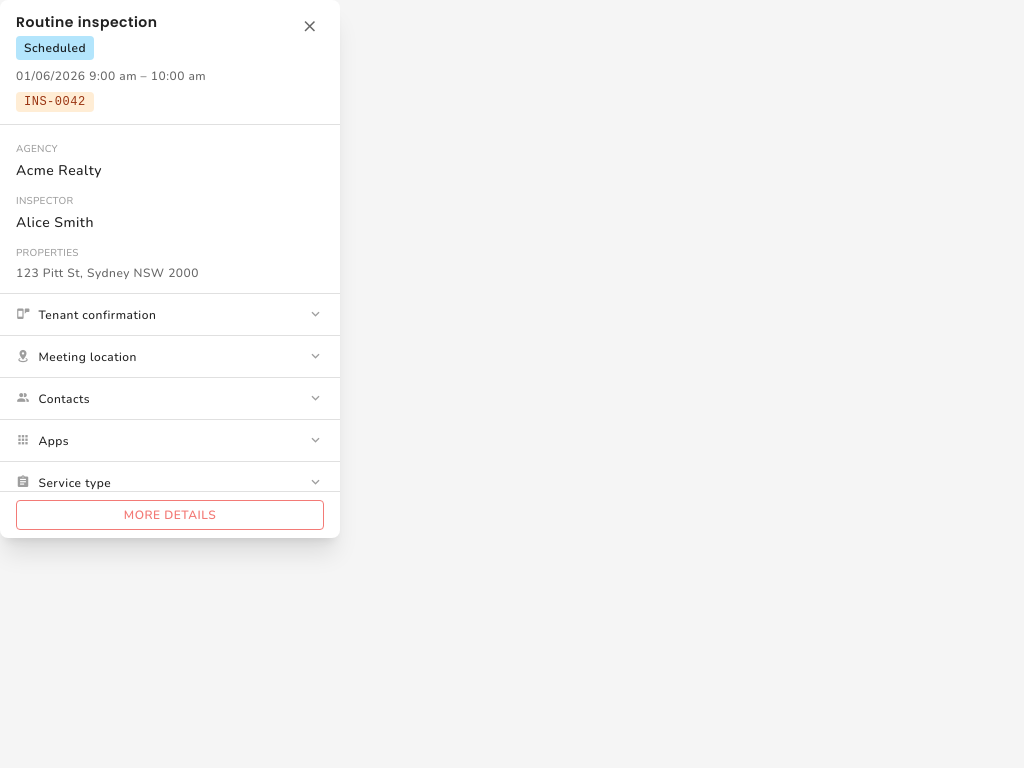
Test: AppointmentMapDetailPanel (content) › omits optional app fields when absent
The image size is (1024, 768).
Click the button with test id "map-detail-section-apps".
click(54, 440)  # box [0,420,340,461]
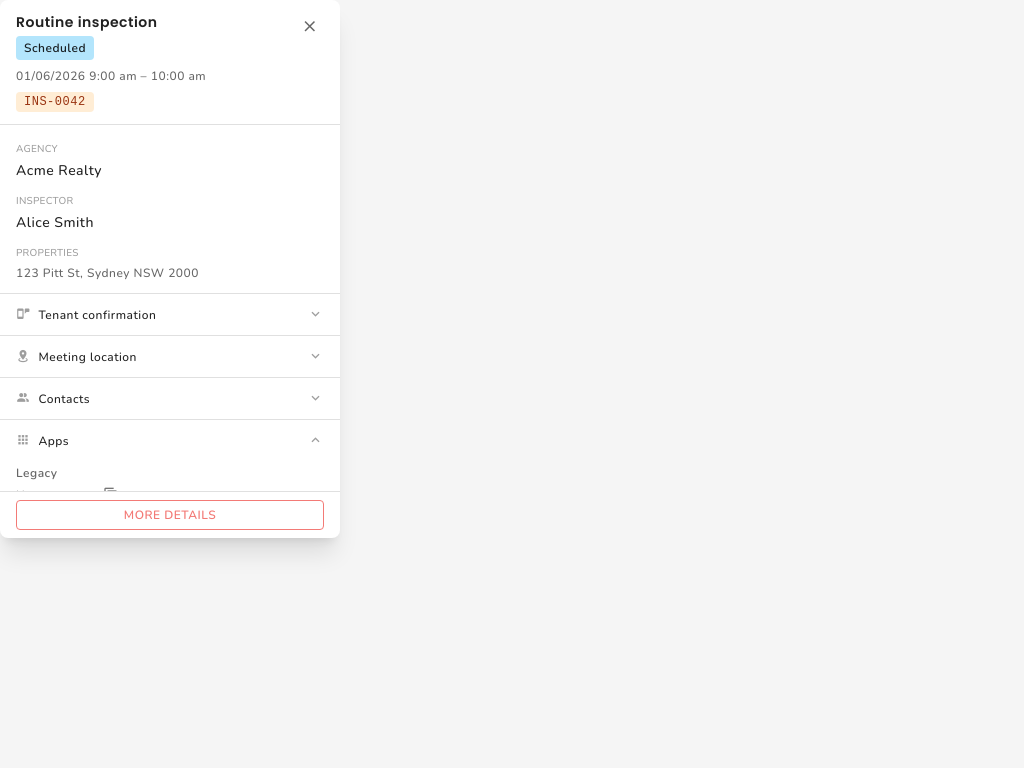
Result: the text "Legacy" is shown at [16,465,58,481]
